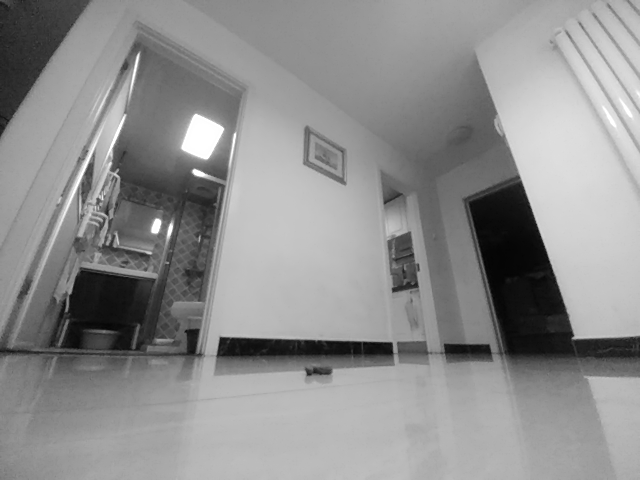pet feces: (304, 364, 335, 378)
